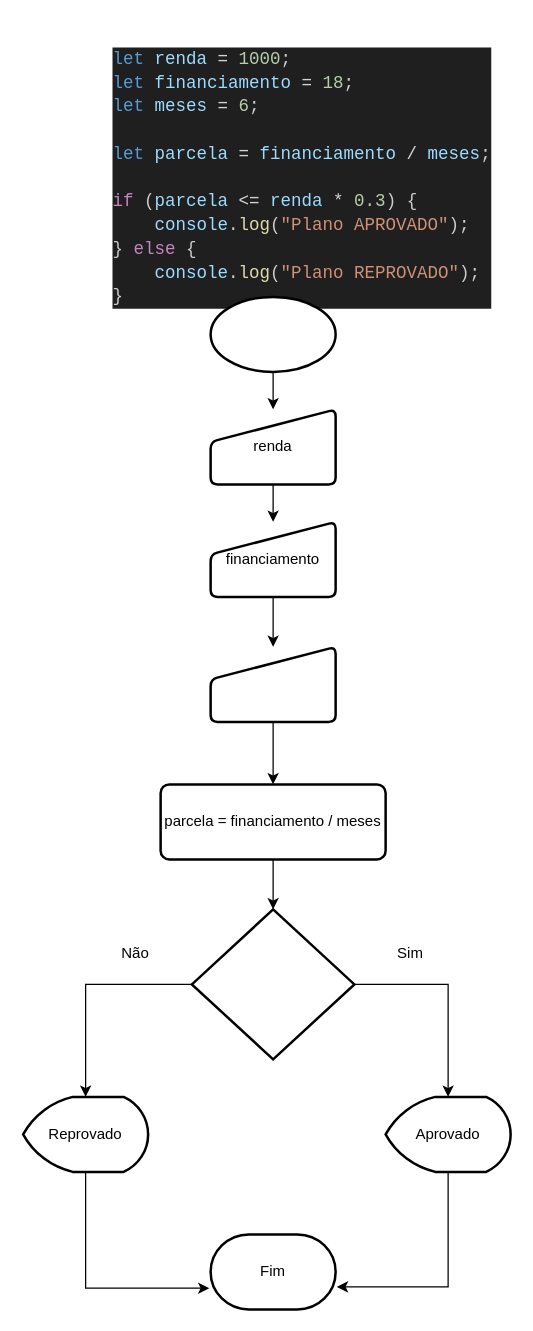
This 533x1331 diagram has some shape labels left out. Each missing label, with the centre of its shape:
Inicio: (x=272, y=333)
meses: (x=272, y=683)
parcela < renda * 0.3: (x=272, y=984)
